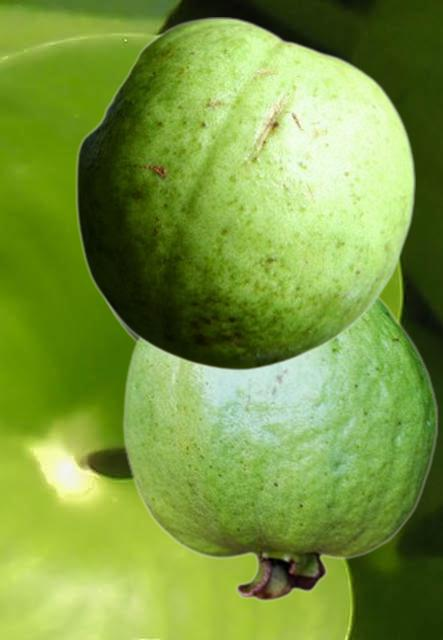guava: (75, 17, 414, 370), (122, 297, 438, 601)
